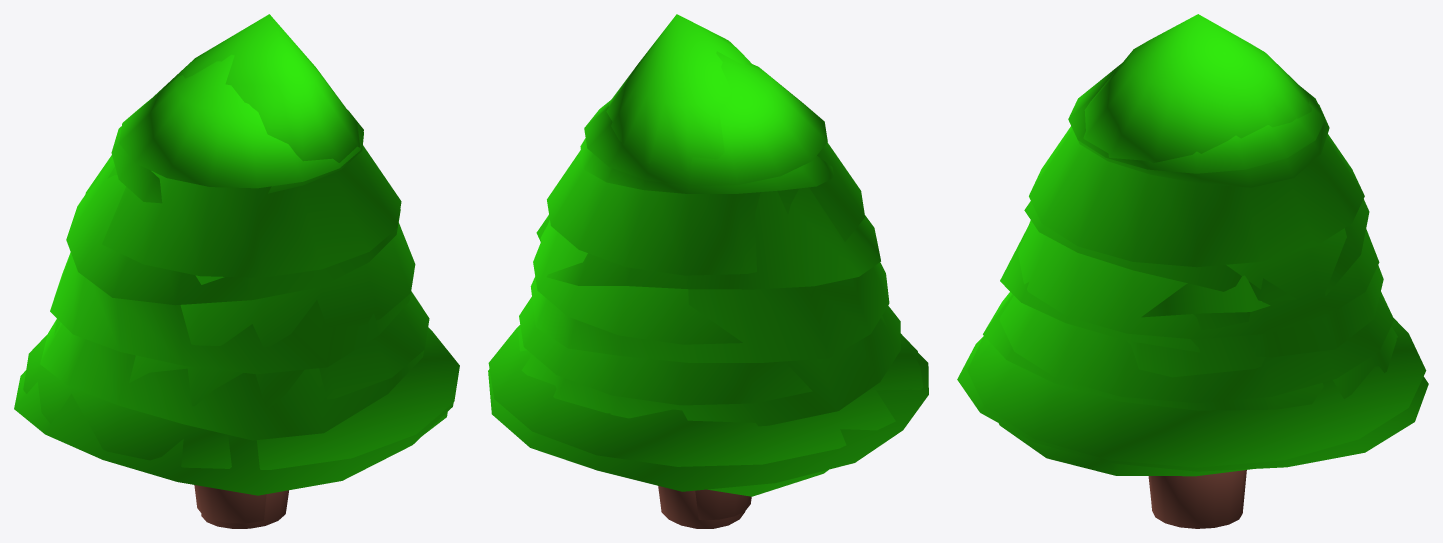
Rendered from arbre.glb.
3 renders of one model, left to right at view 1: azimuth 30°, elevation 25°; view 2: azimuth 150°, elevation 25°; view 3: azimuth 270°, elevation 25°, orthographic. The views are drawn at different scales.
Visible parts, largest first — view 1: arbre_basis, arbre.001, arbre_basis.001; view 2: arbre_basis, arbre.001, arbre_basis.001; view 3: arbre_basis, arbre.001, arbre_basis.001.
Boxes of the visible parts, x1=… form: arbre_basis: x1=23, y1=54, x2=459, y2=469; arbre.001: x1=14, y1=14, x2=453, y2=523; arbre_basis.001: x1=201, y1=412, x2=447, y2=528; arbre_basis: x1=488, y1=51, x2=923, y2=466; arbre.001: x1=488, y1=14, x2=928, y2=520; arbre_basis.001: x1=536, y1=215, x2=828, y2=528; arbre_basis: x1=967, y1=63, x2=1426, y2=467; arbre.001: x1=957, y1=14, x2=1428, y2=497; arbre_basis.001: x1=999, y1=275, x2=1270, y2=528.
Bounding box in the file's own units: 1.56 × 1.89 × 1.57.
